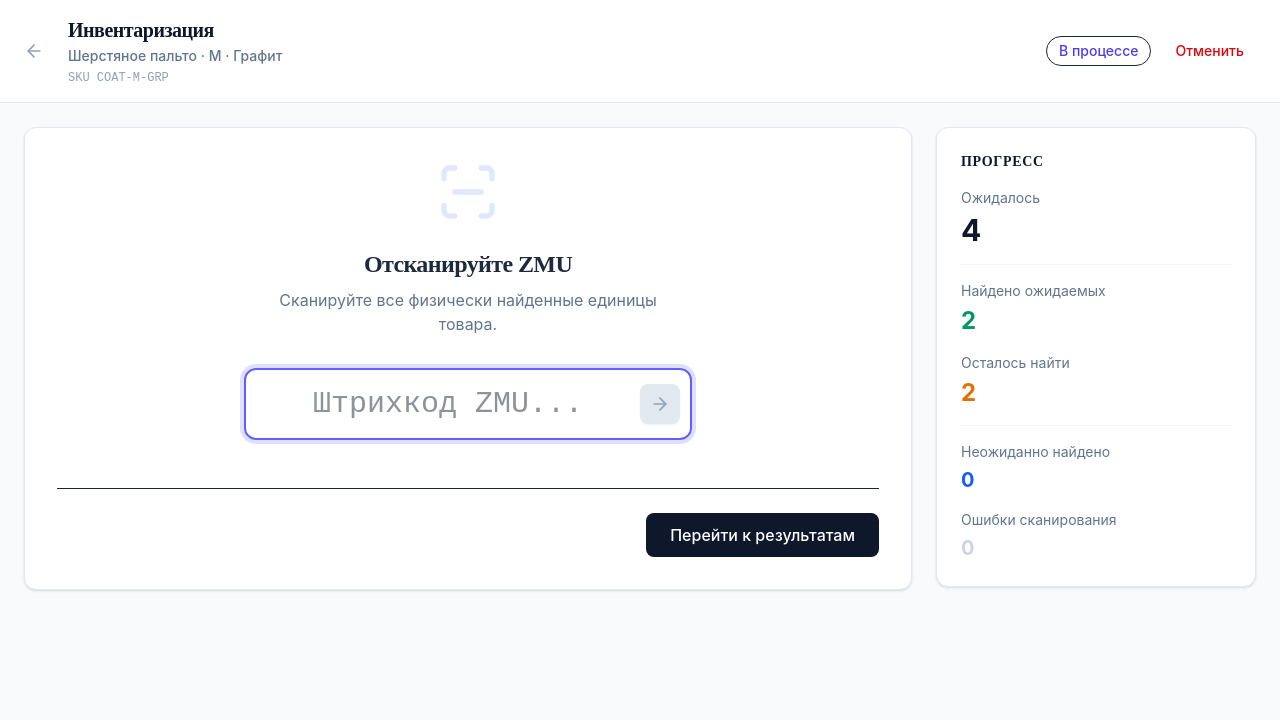
it: AdminInventoryReconciliation › renders humanized wrong-variant context when scanned
Type "ZMU-WRONG123" into the field with placeholder "Штрихкод ZMU...".
click(468, 404); type("ZMU-WRONG123")  # box [244,368,692,440]
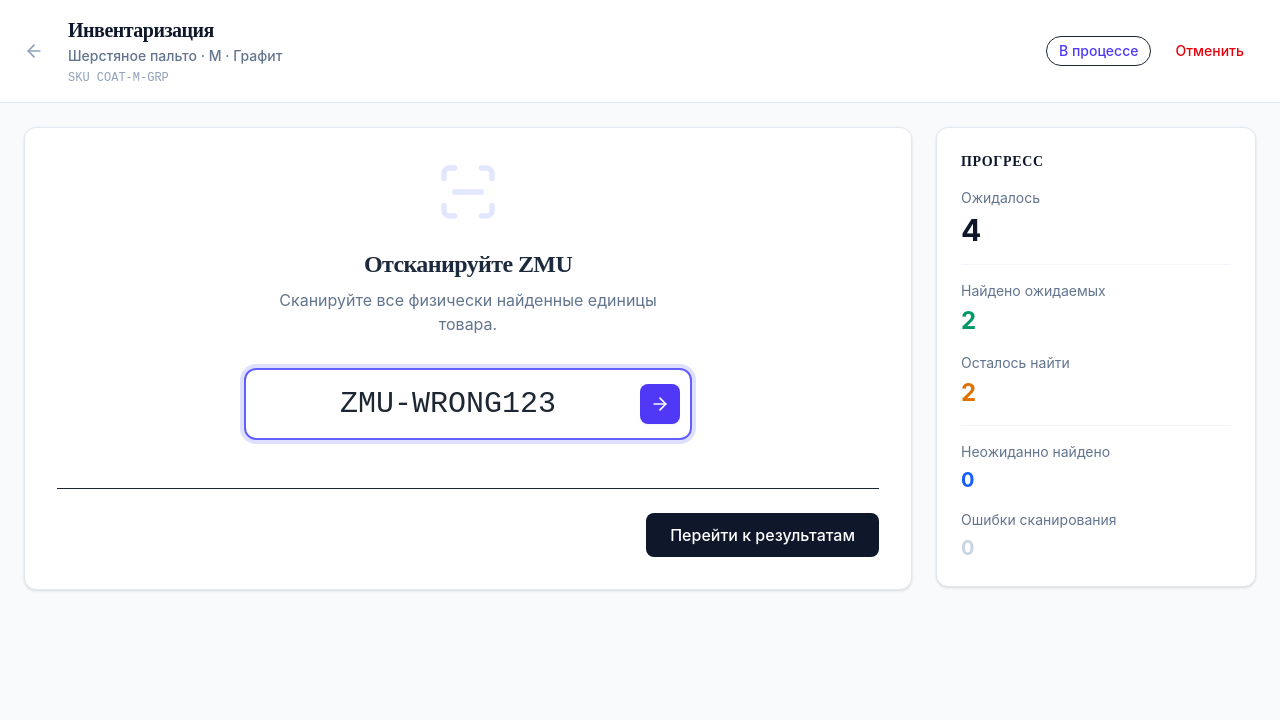
Submit the form from the field with placeholder "Штрихкод ZMU...", box [244,368,692,440]
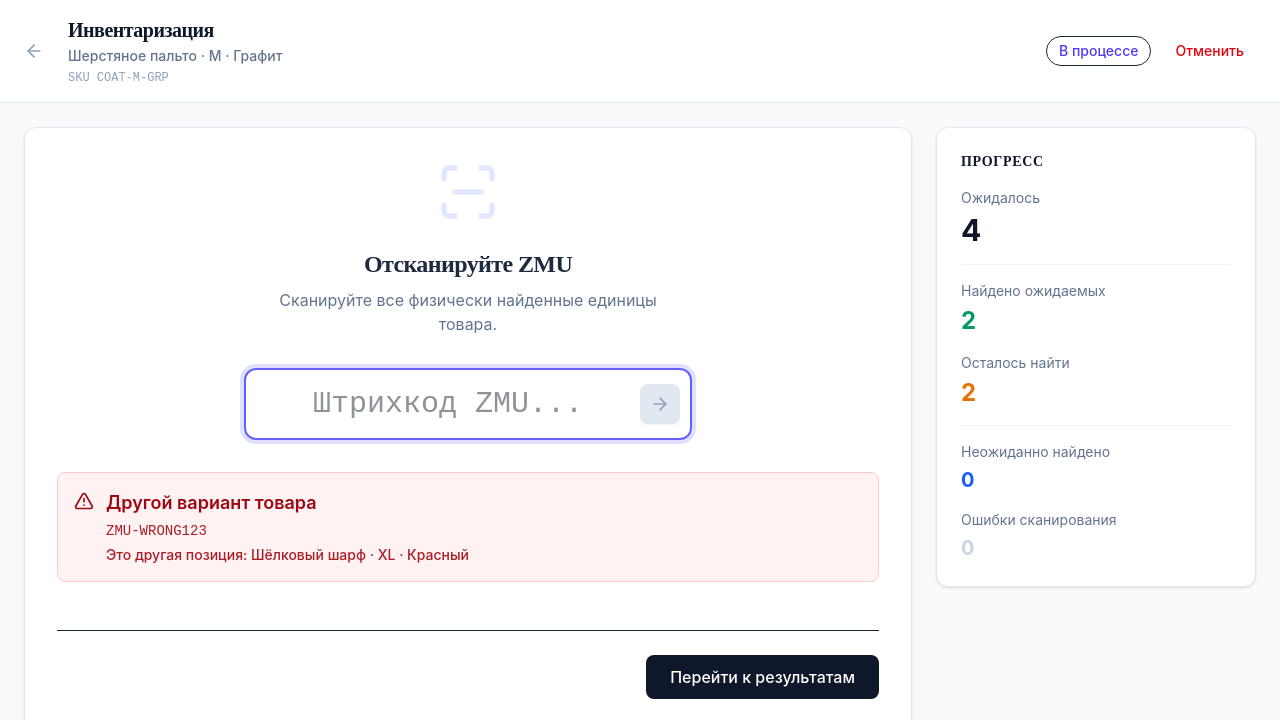
Check: the text "Другой вариант товара" is shown, box [106,492,316,513]
Check: the text "Это другая позиция: Шёлковый шарф · XL · Красный" is shown, box [106,545,469,565]
